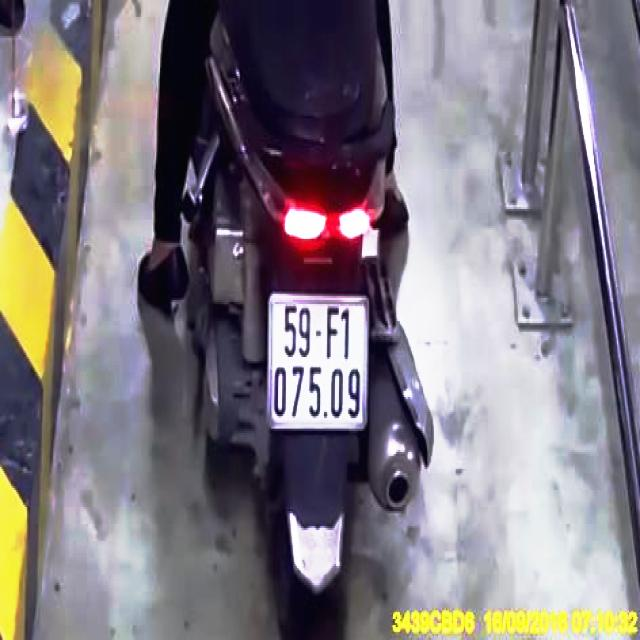license_plate: (272, 297, 366, 425)
